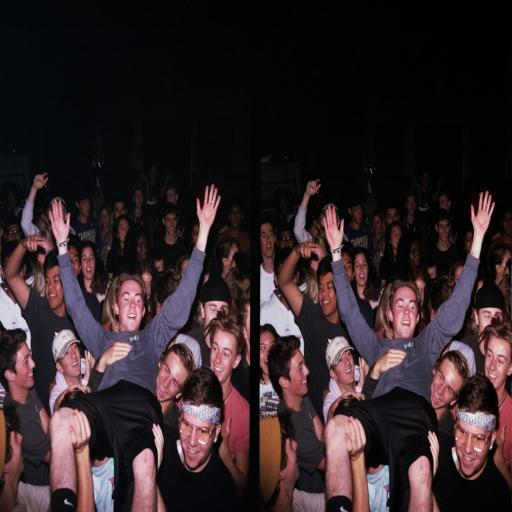face: (456, 419, 495, 479), (181, 413, 220, 472), (156, 352, 188, 403), (114, 280, 145, 332), (211, 330, 240, 384), (389, 287, 419, 339), (431, 360, 462, 410), (485, 337, 511, 391), (10, 343, 35, 389), (286, 350, 309, 396), (319, 273, 338, 321), (330, 350, 355, 386), (57, 343, 81, 379), (281, 439, 299, 485), (45, 266, 63, 310), (201, 301, 228, 327), (475, 308, 502, 334), (9, 431, 24, 475), (260, 332, 274, 376), (261, 223, 275, 258), (354, 254, 368, 287), (81, 247, 95, 280), (163, 214, 178, 236), (69, 246, 80, 276), (436, 220, 450, 243), (410, 240, 421, 269), (390, 226, 402, 251), (137, 234, 147, 262), (349, 205, 363, 224), (118, 219, 129, 243), (99, 209, 110, 230)
